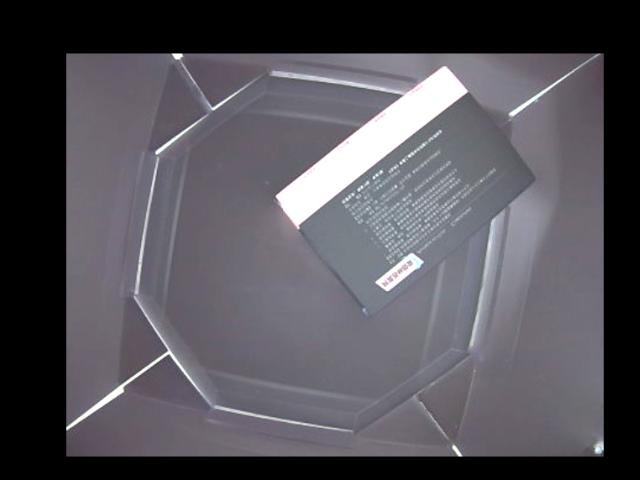Medicine: (274, 66, 534, 315)
